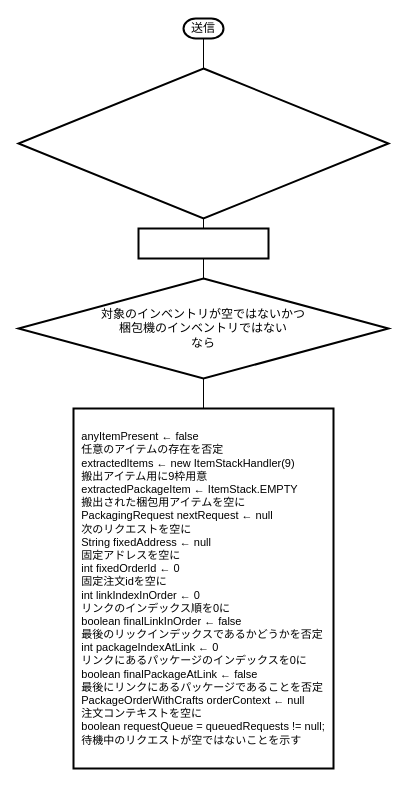
This 406x786 diagram has some shape labels left out. The shapes that lost their labels are listed below. From the top down, each one's box as (x1, y1, x2, y2) in pixels, then its label:
(17, 67, 389, 219): 手に持っているアイテムが空かつ 梱包/開封動作中ではないかつ 手動梱包動作が終わっているまたは 待機中のリクエストが空(null)ではない なら
(137, 227, 269, 259): 送信先のインベントリを取得する
